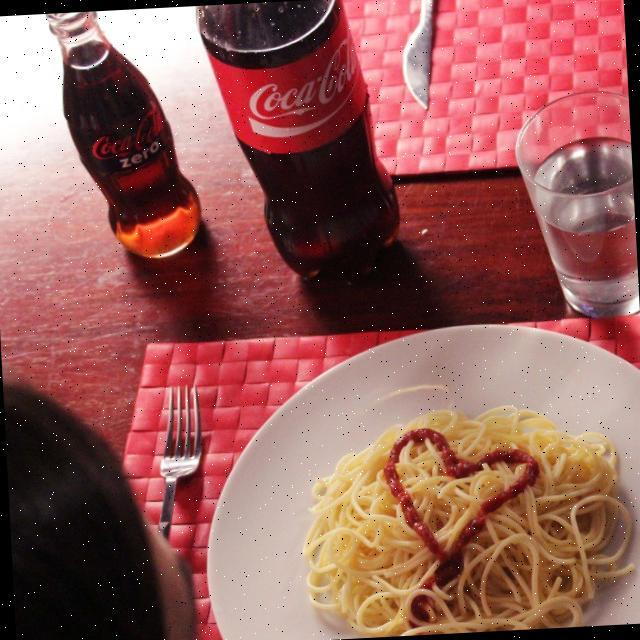coca-cola: (194, 0, 405, 280), (45, 7, 205, 266)
